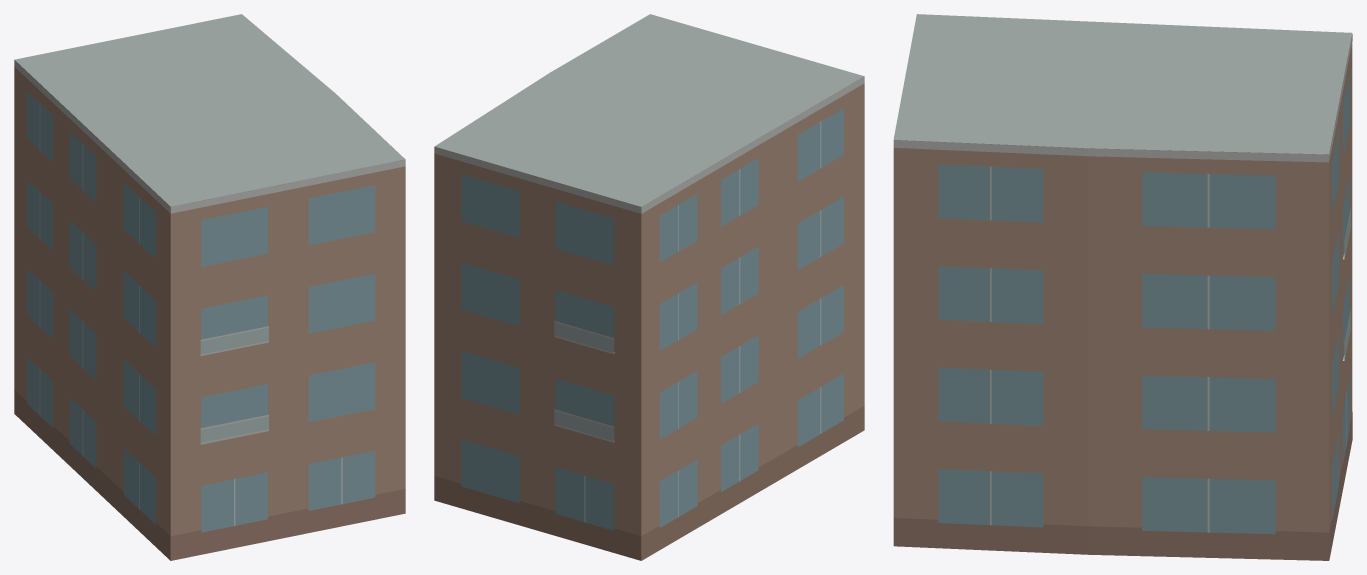
The model's file is survey-upis-32667761.glb.
3 views of the same model, side by side, from view 1: azimuth 30°, elevation 25°; view 2: azimuth 150°, elevation 25°; view 3: azimuth 270°, elevation 25° (orthographic). The views are drawn at different scales.
Parts seen in each view (by area): view 1: survey-upis-32667761.tmp; view 2: survey-upis-32667761.tmp; view 3: survey-upis-32667761.tmp.
Part boxes in pixels (x1,y1,x2,y2): survey-upis-32667761.tmp: (14, 14, 405, 560); survey-upis-32667761.tmp: (434, 14, 864, 560); survey-upis-32667761.tmp: (893, 14, 1352, 560).
Bounding box in the file's own units: 9.2 × 12.4 × 12.7.
